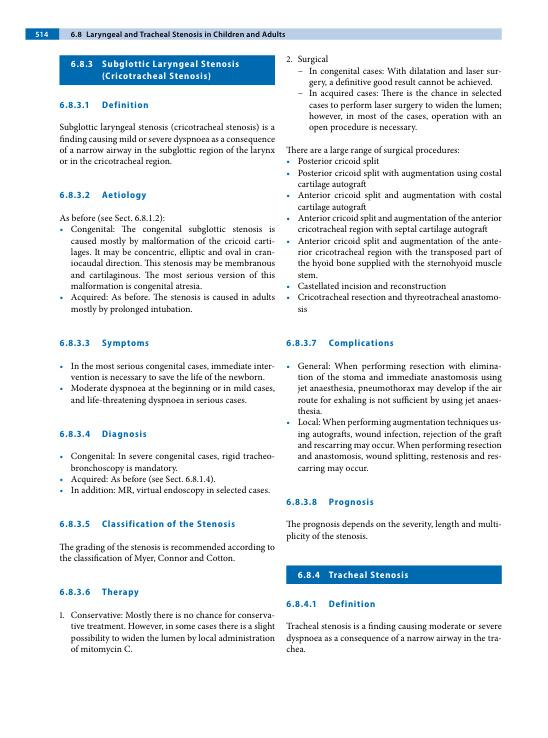header: (85, 30, 287, 39)
list: (285, 156, 504, 314), (284, 360, 504, 475), (59, 224, 276, 316), (284, 52, 504, 134), (58, 450, 275, 497), (58, 361, 276, 407), (59, 610, 276, 656)
section-heading: (101, 59, 240, 81), (327, 570, 410, 579)
sub-section-heading: (100, 518, 236, 529), (327, 338, 395, 350), (100, 338, 150, 350), (100, 428, 148, 440), (101, 99, 149, 110), (100, 190, 147, 201), (328, 497, 374, 508), (328, 599, 376, 609), (101, 587, 140, 598)
text: (58, 121, 276, 168), (284, 620, 503, 654), (284, 518, 503, 543), (58, 541, 276, 565), (285, 145, 460, 156), (58, 212, 166, 224)
